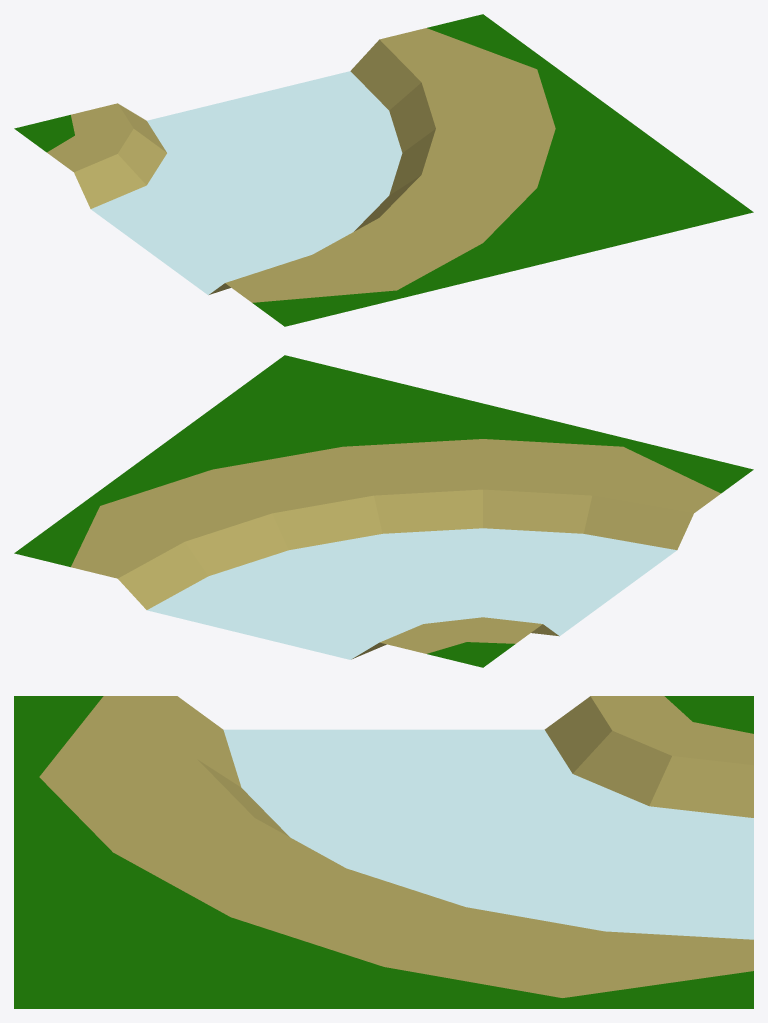
The model's file is ground_riverBendBank.fbx.
The picture shows the model from 3 angles, top to bottom: view 1: azimuth 30°, elevation 25°; view 2: azimuth 150°, elevation 25°; view 3: azimuth 270°, elevation 25°; orthographic projection. The views are drawn at different scales.
Parts seen in each view (by area): view 1: ground_riverBendBank; view 2: ground_riverBendBank; view 3: ground_riverBendBank.
Part boxes in pixels (bbox=[...]): ground_riverBendBank: bbox=[14, 14, 753, 326]; ground_riverBendBank: bbox=[14, 355, 753, 667]; ground_riverBendBank: bbox=[14, 696, 753, 1008].
Bounding box in the file's own units: 100 × 5 × 100.
